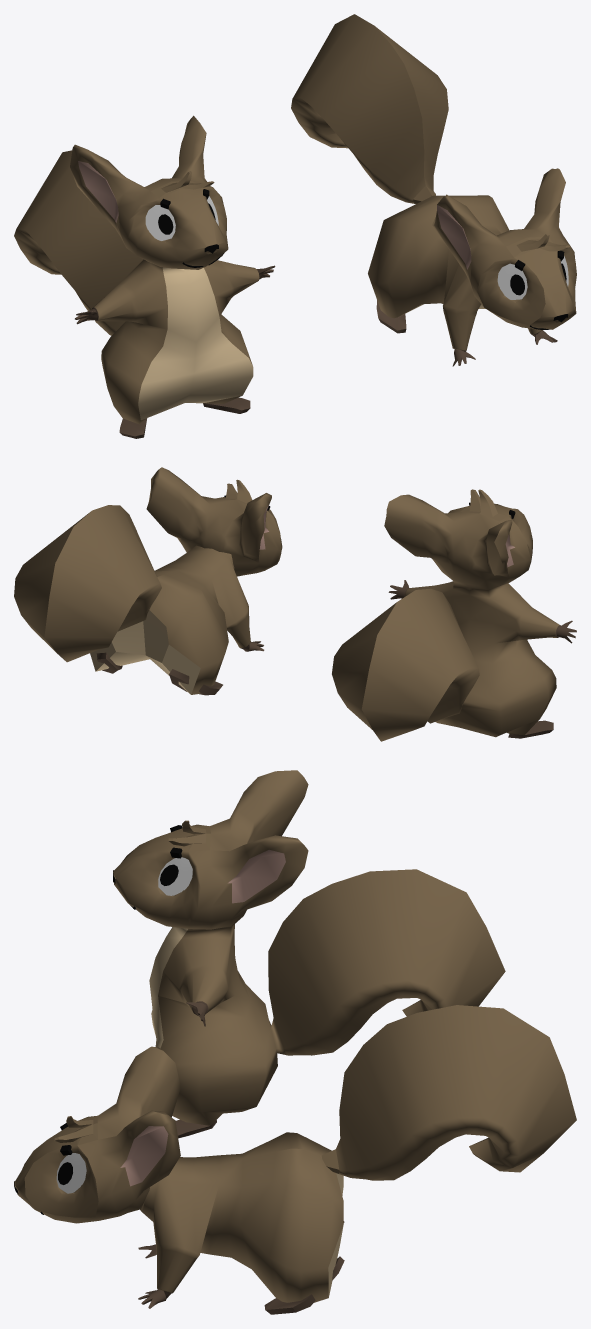
The model's file is squirrel model.fbx.
The picture shows the model from 3 angles, top to bottom: view 1: azimuth 30°, elevation 25°; view 2: azimuth 150°, elevation 25°; view 3: azimuth 270°, elevation 25°; orthographic projection. The views are drawn at different scales.
Visible parts, largest first — view 1: polySurface5, polySurface12, polySurface9, polySurface11, pPlane1 (×2); view 2: polySurface5, polySurface12, polySurface11, polySurface9, polySurface8; view 3: polySurface5, polySurface12, polySurface11, polySurface9, pPlane1 (×2), polySurface8.
Part boxes in pixels (x1,y1,x2,y2): polySurface5: (14,115,275,438); polySurface12: (291,14,448,203); polySurface9: (432,168,576,329); polySurface11: (368,195,557,366); pPlane1 (×2): (145,196,568,299); polySurface5: (332,489,576,741); polySurface12: (14,505,161,662); polySurface11: (90,545,264,694); polySurface9: (146,467,282,576); polySurface8: (96,652,222,695); polySurface5: (113,770,505,1138); polySurface12: (320,1005,576,1180); polySurface11: (138,1132,343,1308); polySurface9: (14,1046,180,1223); pPlane1 (×2): (56,857,192,1193); polySurface8: (264,1221,344,1314).
Bounding box in the file's own units: 14.44 × 7.47 × 12.55.
